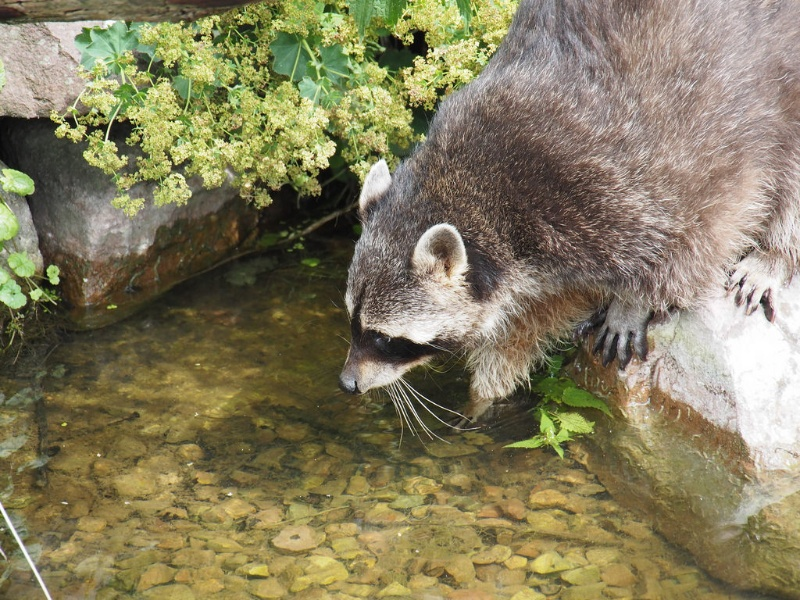raccoon: (337, 8, 800, 423)
